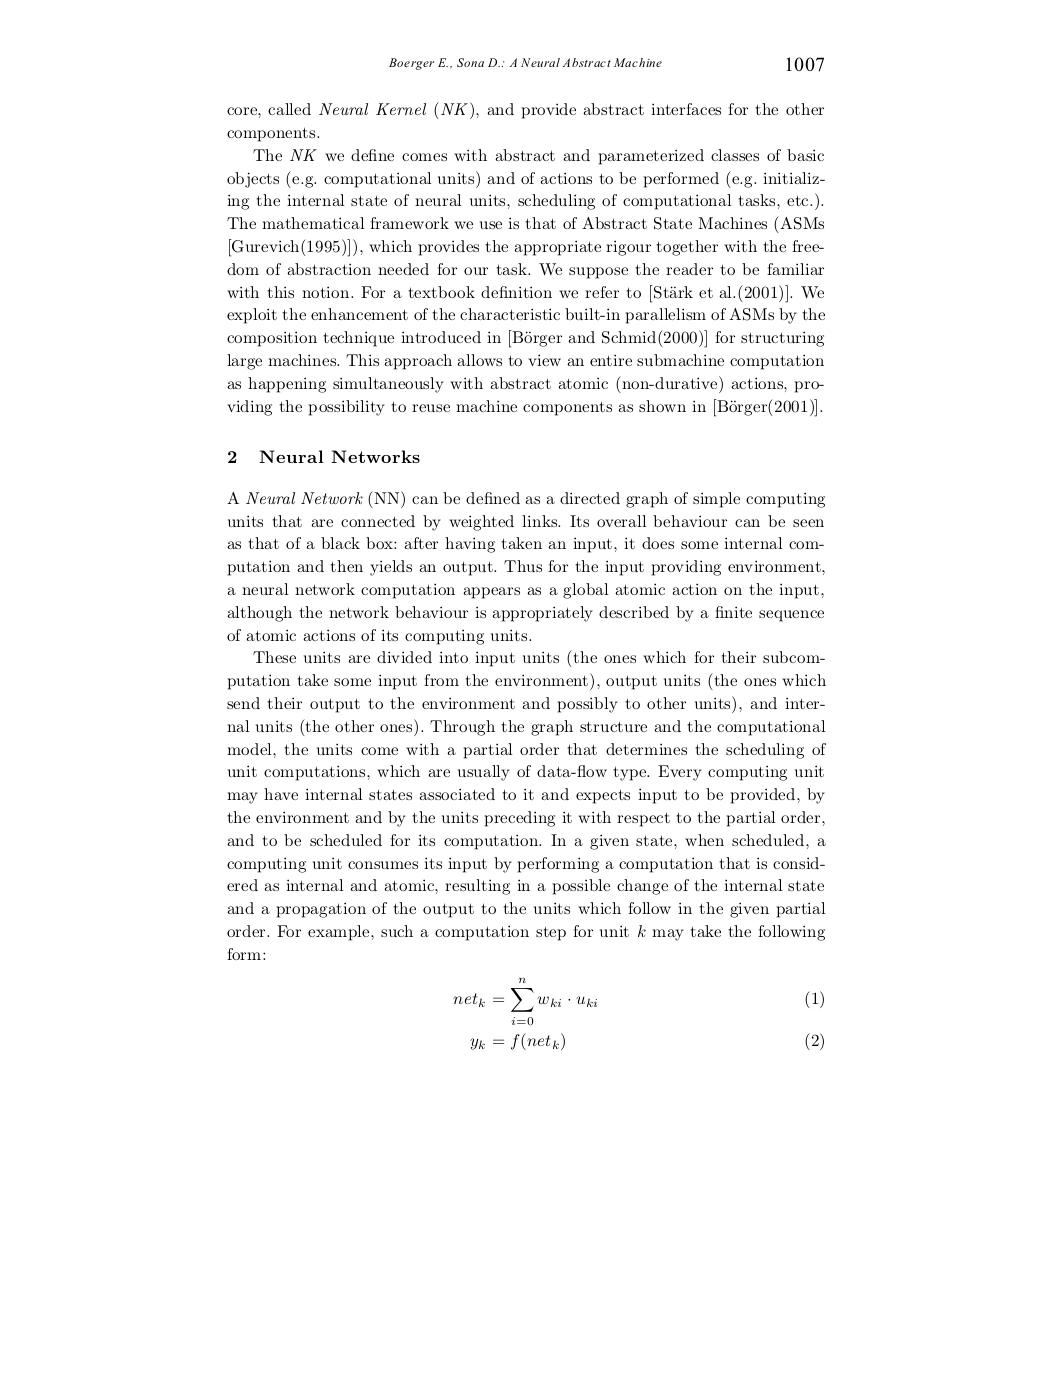formula: (452, 977, 822, 1025), (470, 1032, 822, 1051)
